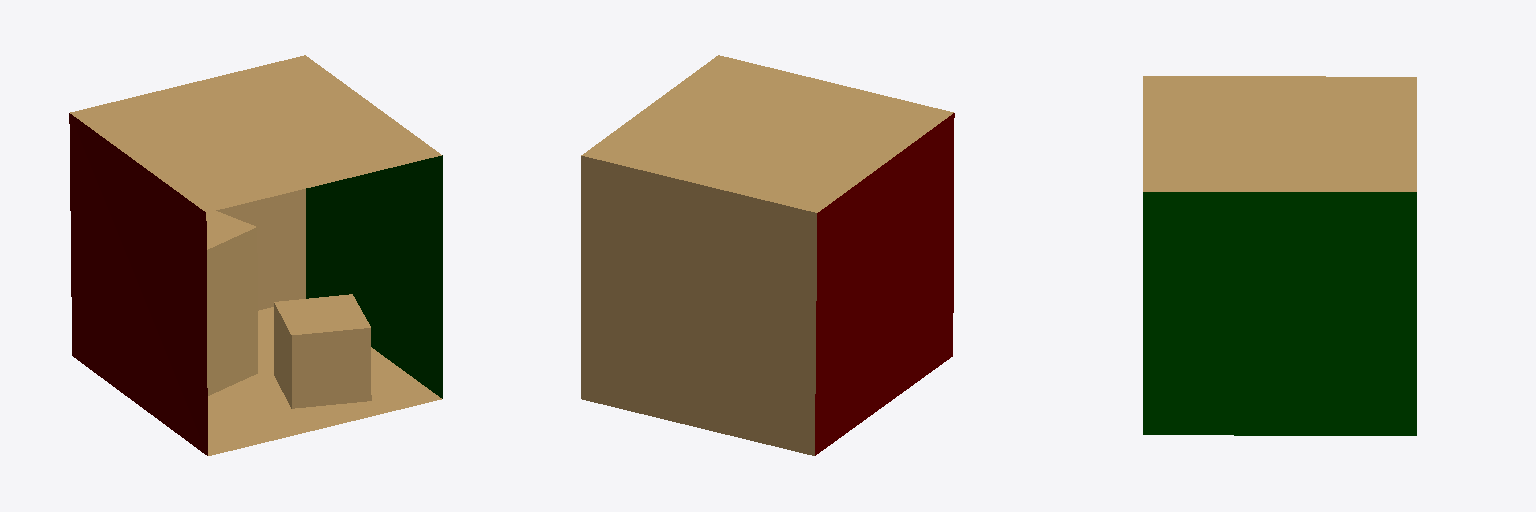
The model's file is cornell-box.obj.
The picture shows the model from 3 angles: view 1: azimuth 30°, elevation 25°; view 2: azimuth 150°, elevation 25°; view 3: azimuth 270°, elevation 25°; orthographic projection.
Parts seen in each view (by area): view 1: left_wall, ceiling, right_wall, floor, short_box, tall_box, back_wall; view 2: back_wall, left_wall, ceiling; view 3: right_wall, ceiling.
Part boxes in pixels (bbox=[...]): left_wall: bbox=[69, 113, 207, 455]; ceiling: bbox=[70, 55, 441, 212]; right_wall: bbox=[306, 155, 442, 398]; floor: bbox=[208, 307, 441, 455]; short_box: bbox=[274, 294, 371, 408]; tall_box: bbox=[206, 211, 257, 395]; back_wall: bbox=[216, 189, 305, 310]; back_wall: bbox=[581, 156, 816, 455]; left_wall: bbox=[815, 113, 954, 455]; ceiling: bbox=[581, 55, 953, 212]; right_wall: bbox=[1143, 192, 1416, 435]; ceiling: bbox=[1143, 76, 1416, 191].
Size of the model in its own units: 2 by 1.97 by 2.01.